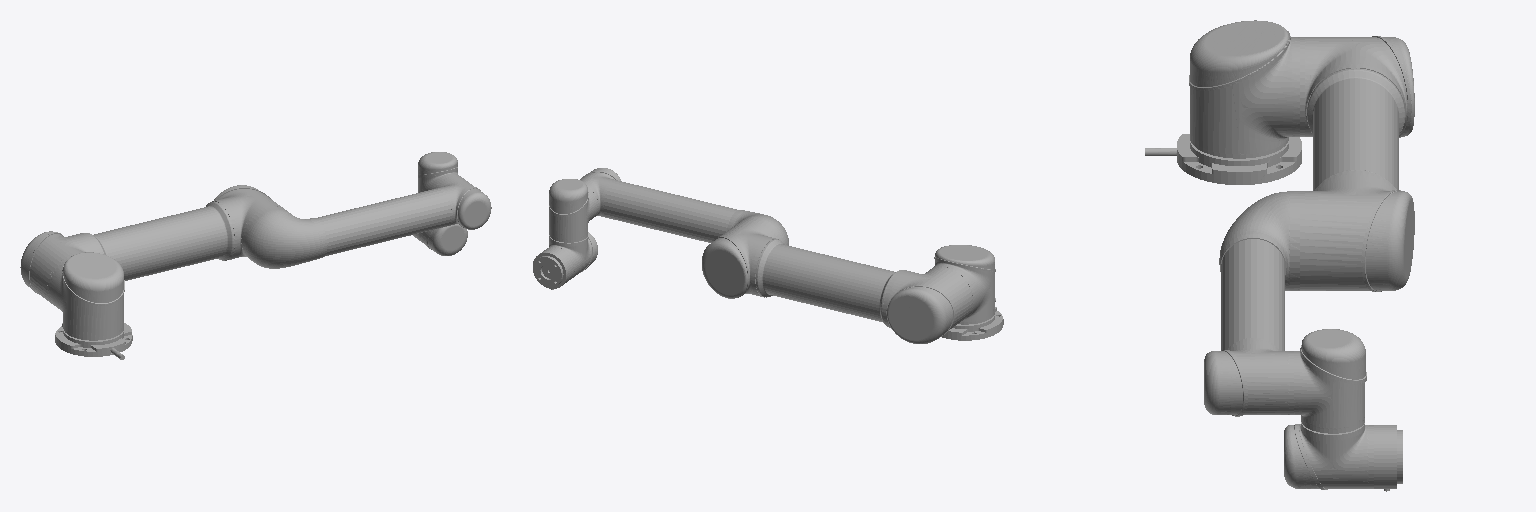
robot.urdf — universal_robot:
<?xml version="1.0" ?>
<!--FOR GRIPPER, THERE IS NO LINK INERTIA DEFINED HERE-->
<robot name="universal_robot">

  <link name="base_link">
    <visual>
      <geometry>
        <mesh filename="meshes/ur5/visual/base.obj"/>
      </geometry>
      <material name="LightGrey">
        <color rgba="0.7 0.7 0.7 1.0"/>
      </material>
    </visual>
    <collision>
      <geometry>
        <mesh filename="meshes/ur5/collision/base.stl"/>
      </geometry>
    </collision>
    <inertial>
      <mass value="4.0"/>
      <origin rpy="0 0 0" xyz="0.0 0.0 0.0"/>
      <inertia ixx="0.00443333156" ixy="0.0" ixz="0.0" iyy="0.00443333156" iyz="0.0" izz="0.0072"/>
    </inertial>
  </link>

  <joint name="shoulder_pan_joint" type="revolute">
    <parent link="base_link"/>
    <child link="shoulder_link"/>
    <origin rpy="0.0 0.0 0.0" xyz="0.0 0.0 0.089159"/>
    <axis xyz="0 0 1"/>
    <limit effort="150.0" lower="-6.28318530718" upper="6.28318530718" velocity="3.15"/>
    <dynamics damping="0.0" friction="0.0"/>
  </joint>
  <link name="shoulder_link">
    <visual>
      <geometry>
        <mesh filename="meshes/ur5/visual/shoulder.obj"/>
      </geometry>
      <material name="LightGrey">
        <color rgba="0.7 0.7 0.7 1.0"/>
      </material>
    </visual>
    <collision>
      <geometry>
        <mesh filename="meshes/ur5/collision/shoulder.stl"/>
      </geometry>
    </collision>
    <inertial>
      <mass value="3.7"/>
      <origin rpy="0 0 0" xyz="0.0 0.0 0.0"/>
      <inertia ixx="0.010267495893" ixy="0.0" ixz="0.0" iyy="0.010267495893" iyz="0.0" izz="0.00666"/>
    </inertial>
  </link>
  <joint name="shoulder_lift_joint" type="revolute">
    <parent link="shoulder_link"/>
    <child link="upper_arm_link"/>
    <origin rpy="0.0 1.57079632679 0.0" xyz="0.0 0.13585 0.0"/>
    <axis xyz="0 1 0"/>
    <limit effort="150.0" lower="-2" upper="0" velocity="3.15"/>
    <dynamics damping="0.0" friction="0.0"/>
  </joint>
  <link name="upper_arm_link">
    <visual>
      <geometry>
        <mesh filename="meshes/ur5/visual/upperarm.obj"/>
      </geometry>
      <material name="LightGrey">
        <color rgba="0.7 0.7 0.7 1.0"/>
      </material>
    </visual>
    <collision>
      <geometry>
        <mesh filename="meshes/ur5/collision/upperarm.stl"/>
      </geometry>
    </collision>
    <inertial>
      <mass value="8.393"/>
      <origin rpy="0 0 0" xyz="0.0 0.0 0.28"/>
      <inertia ixx="0.22689067591" ixy="0.0" ixz="0.0" iyy="0.22689067591" iyz="0.0" izz="0.0151074"/>
    </inertial>
  </link>
  <joint name="elbow_joint" type="revolute">
    <parent link="upper_arm_link"/>
    <child link="forearm_link"/>
    <origin rpy="0.0 0.0 0.0" xyz="0.0 -0.1197 0.425"/>
    <axis xyz="0 1 0"/>
    <limit effort="150.0" lower="-3.14159265359" upper="3.14159265359" velocity="3.15"/>
    <dynamics damping="0.0" friction="0.0"/>
  </joint>
  <link name="forearm_link">
    <visual>
      <geometry>
        <mesh filename="meshes/ur5/visual/forearm.obj"/>
      </geometry>
      <material name="LightGrey">
        <color rgba="0.7 0.7 0.7 1.0"/>
      </material>
    </visual>
    <collision>
      <geometry>
        <mesh filename="meshes/ur5/collision/forearm.stl"/>
      </geometry>
    </collision>
    <inertial>
      <mass value="2.275"/>
      <origin rpy="0 0 0" xyz="0.0 0.0 0.25"/>
      <inertia ixx="0.049443313556" ixy="0.0" ixz="0.0" iyy="0.049443313556" iyz="0.0" izz="0.004095"/>
    </inertial>
  </link>
  <joint name="wrist_1_joint" type="revolute">
    <parent link="forearm_link"/>
    <child link="wrist_1_link"/>
    <origin rpy="0.0 1.57079632679 0.0" xyz="0.0 0.0 0.39225"/>
    <axis xyz="0 1 0"/>
    <limit effort="28.0" lower="-6.28318530718" upper="6.28318530718" velocity="3.2"/>
    <dynamics damping="0.0" friction="0.0"/>
  </joint>
  <link name="wrist_1_link">
    <visual>
      <geometry>
        <mesh filename="meshes/ur5/visual/wrist1.obj"/>
      </geometry>
      <material name="LightGrey">
        <color rgba="0.7 0.7 0.7 1.0"/>
      </material>
    </visual>
    <collision>
      <geometry>
        <mesh filename="meshes/ur5/collision/wrist1.stl"/>
      </geometry>
    </collision>
    <inertial>
      <mass value="1.219"/>
      <origin rpy="0 0 0" xyz="0.0 0.0 0.0"/>
      <inertia ixx="0.111172755531" ixy="0.0" ixz="0.0" iyy="0.111172755531" iyz="0.0" izz="0.21942"/>
    </inertial>
  </link>
  <joint name="wrist_2_joint" type="revolute">
    <parent link="wrist_1_link"/>
    <child link="wrist_2_link"/>
    <origin rpy="0.0 0.0 0.0" xyz="0.0 0.093 0.0"/>
    <axis xyz="0 0 1"/>
    <limit effort="28.0" lower="-6.28318530718" upper="6.28318530718" velocity="3.2"/>
    <dynamics damping="0.0" friction="0.0"/>
  </joint>
  <link name="wrist_2_link">
    <visual>
      <geometry>
        <mesh filename="meshes/ur5/visual/wrist2.obj"/>
      </geometry>
      <material name="LightGrey">
        <color rgba="0.7 0.7 0.7 1.0"/>
      </material>
    </visual>
    <collision>
      <geometry>
        <mesh filename="meshes/ur5/collision/wrist2.stl"/>
      </geometry>
    </collision>
    <inertial>
      <mass value="1.219"/>
      <origin rpy="0 0 0" xyz="0.0 0.0 0.0"/>
      <inertia ixx="0.111172755531" ixy="0.0" ixz="0.0" iyy="0.111172755531" iyz="0.0" izz="0.21942"/>
    </inertial>
  </link>
  <joint name="wrist_3_joint" type="revolute">
    <parent link="wrist_2_link"/>
    <child link="wrist_3_link"/>
    <origin rpy="0.0 0.0 0.0" xyz="0.0 0.0 0.09465"/>
    <axis xyz="0 1 0"/>
    <limit effort="28.0" lower="-6.28318530718" upper="6.28318530718" velocity="3.2"/>
    <dynamics damping="0.0" friction="0.0"/>
  </joint>
  <link name="wrist_3_link">
    <visual>
      <geometry>
        <mesh filename="meshes/ur5/visual/wrist3.obj"/>
      </geometry>
      <material name="LightGrey">
        <color rgba="0.7 0.7 0.7 1.0"/>
      </material>
    </visual>
    <collision>
      <geometry>
        <mesh filename="meshes/ur5/collision/wrist3.stl"/>
      </geometry>
    </collision>
    <inertial>
      <mass value="0.1879"/>
      <origin rpy="0 0 0" xyz="0.0 0.0 0.0"/>
      <inertia ixx="0.0171364731454" ixy="0.0" ixz="0.0" iyy="0.0171364731454" iyz="0.0" izz="0.033822"/>
    </inertial>
  </link>
  <joint name="ee_fixed_joint" type="fixed">
    <parent link="wrist_3_link"/>
    <child link="ee_link"/>
    <origin rpy="0.0 0.0 3.1415" xyz="0.0 0.0823 0.0"/>
  </joint>
  <link name="ee_link">
    <collision>
      <geometry>
        <box size="0.01 0.01 0.01"/>
      </geometry>
      <origin rpy="0 0 0" xyz="-0.00 0 0"/>
    </collision>
  </link>

</robot>


--- What the picture shows (computed from the rendered views, not written in the file) ---
3 views of the same robot in one strip: view 1: azimuth 30°, elevation 25°; view 2: azimuth 150°, elevation 25°; view 3: azimuth 270°, elevation 25° (orthographic).
Model universal_robot with 8 links and 7 joints (6 revolute, 1 fixed), rooted at base_link, posed every joint at zero.
Visible links, largest first — view 1: upper_arm_link, forearm_link, shoulder_link, base_link, wrist_1_link, wrist_2_link; view 2: upper_arm_link, forearm_link, shoulder_link, wrist_1_link, wrist_3_link, wrist_2_link, base_link; view 3: upper_arm_link, forearm_link, shoulder_link, wrist_1_link, wrist_2_link, base_link, wrist_3_link.
Boxes of the visible links, <box> form: upper_arm_link: <box>20,185,283,305</box>; forearm_link: <box>243,175,491,268</box>; shoulder_link: <box>49,252,124,340</box>; base_link: <box>55,323,132,359</box>; wrist_1_link: <box>418,152,458,192</box>; wrist_2_link: <box>413,224,467,255</box>; upper_arm_link: <box>702,220,972,343</box>; forearm_link: <box>580,168,788,245</box>; shoulder_link: <box>933,245,995,324</box>; wrist_1_link: <box>549,179,597,242</box>; wrist_3_link: <box>533,248,572,289</box>; wrist_2_link: <box>547,232,597,279</box>; base_link: <box>942,298,1003,340</box>; upper_arm_link: <box>1300,36,1414,291</box>; forearm_link: <box>1204,191,1299,416</box>; shoulder_link: <box>1189,20,1299,158</box>; wrist_1_link: <box>1294,329,1366,433</box>; wrist_2_link: <box>1284,422,1373,489</box>; base_link: <box>1145,134,1301,184</box>; wrist_3_link: <box>1374,425,1402,491</box>.
Bounding box of the posed robot: 0.9295 × 0.3144 × 0.2062 m (x, y, z).
Meshes: 7 distinct files referenced, 7 mesh visuals loaded (7 OBJ).